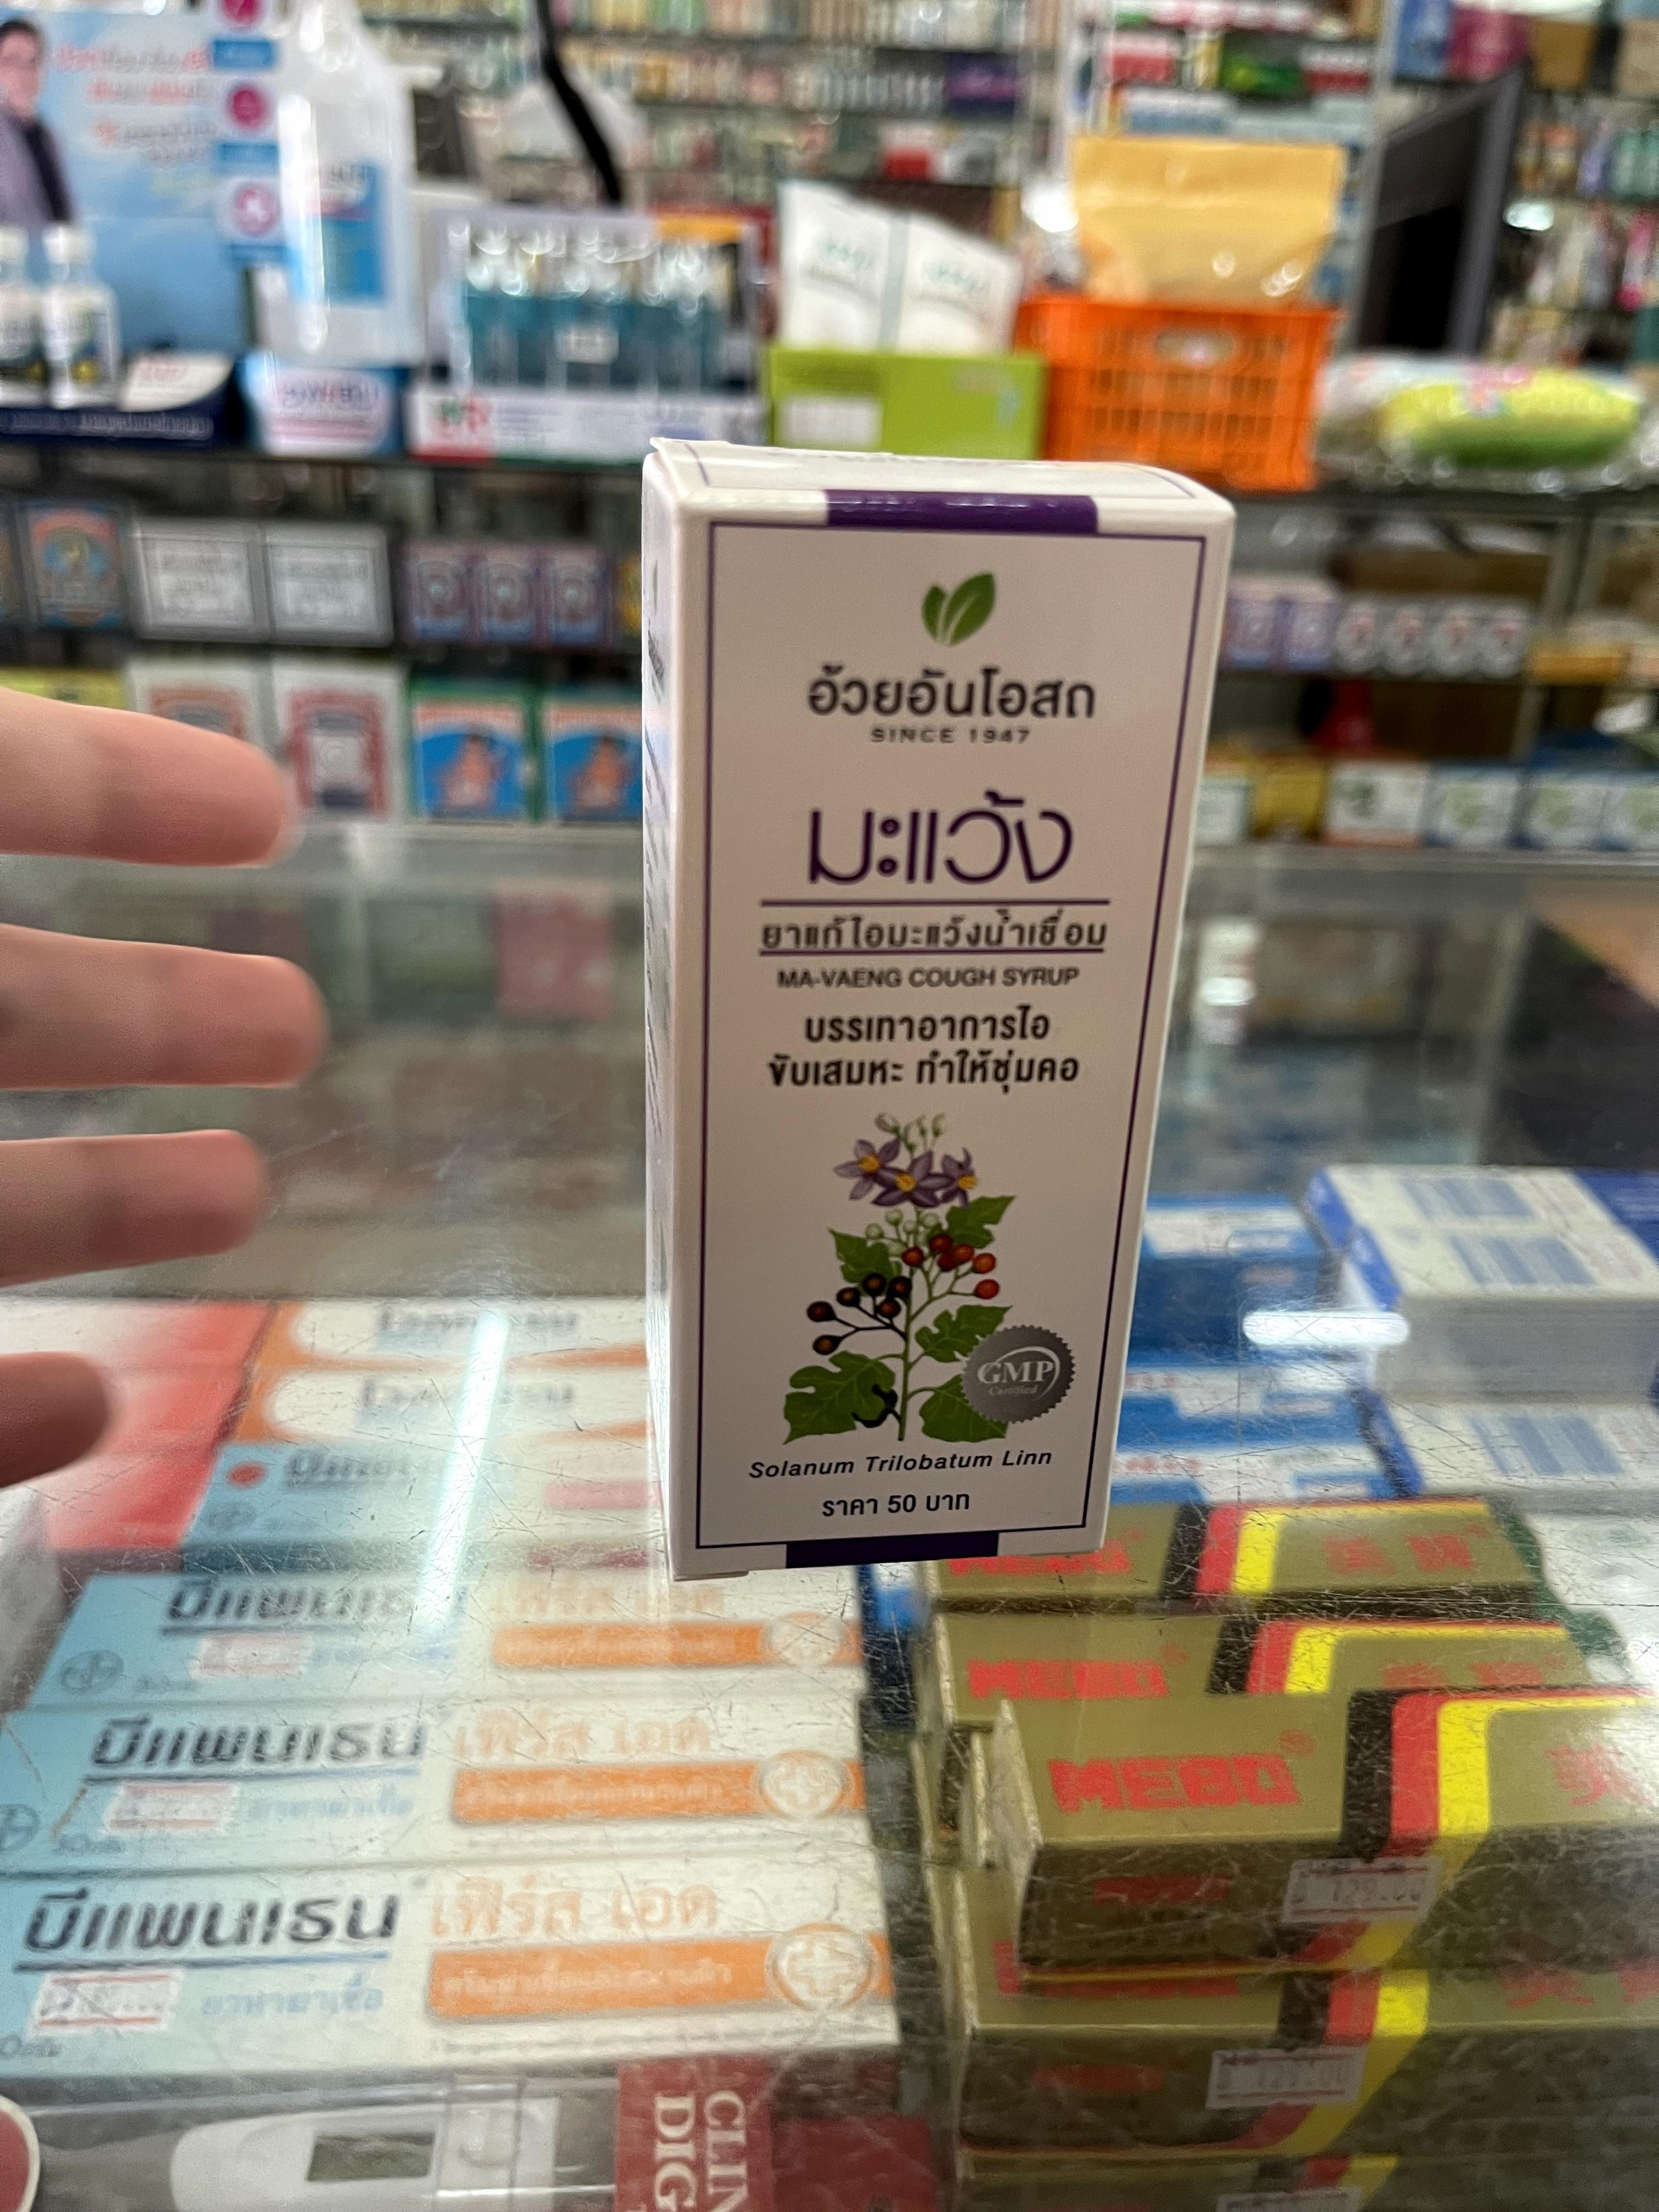Ma-Vaeng_Syrup: (647, 444, 1220, 1569)
